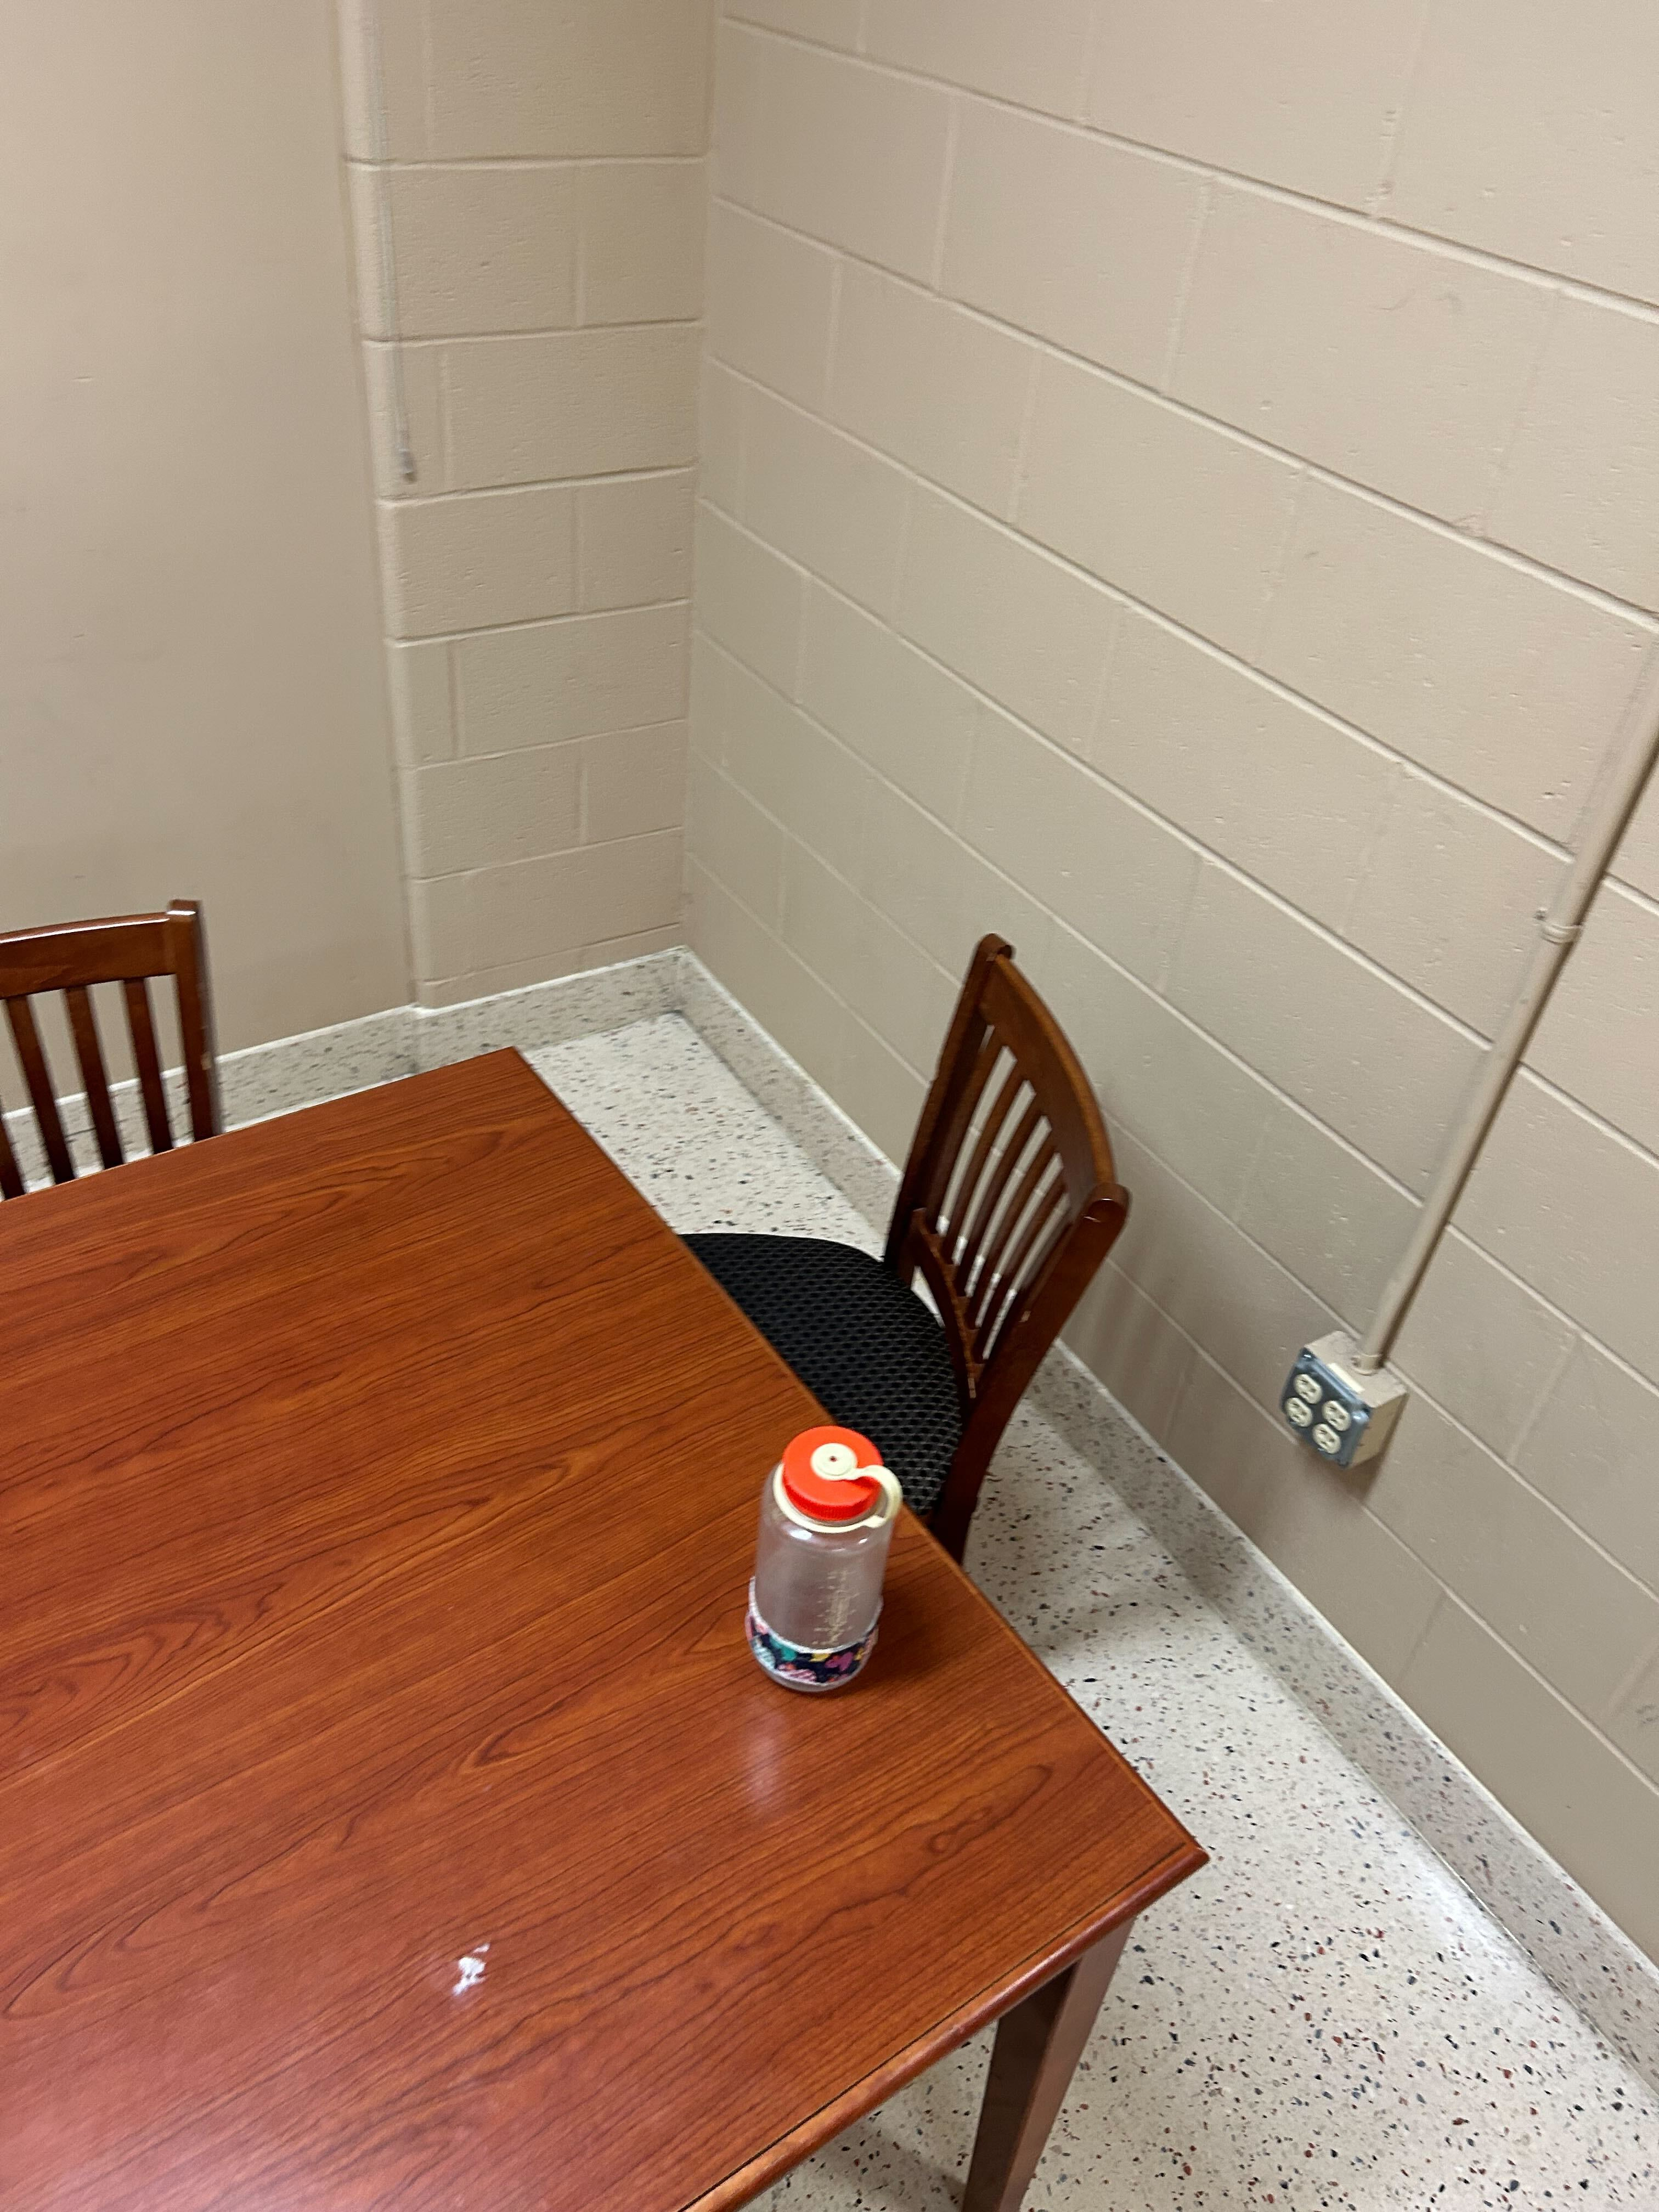bottle: (742, 1413, 904, 1703)
